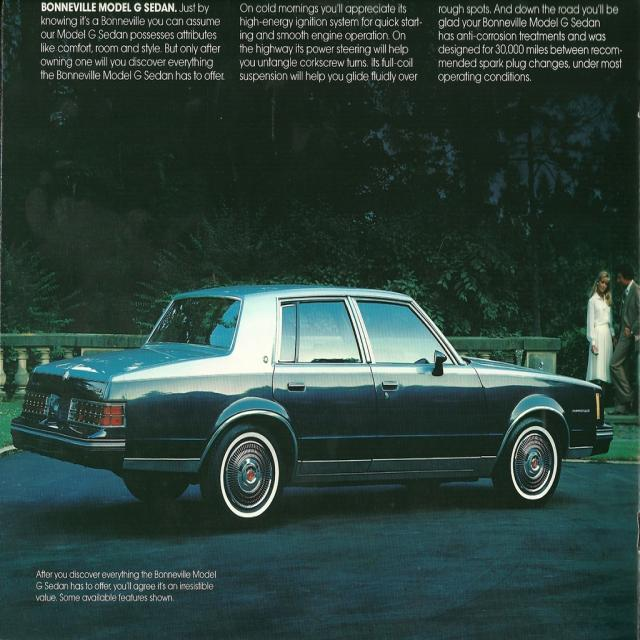car: (10, 280, 615, 507)
